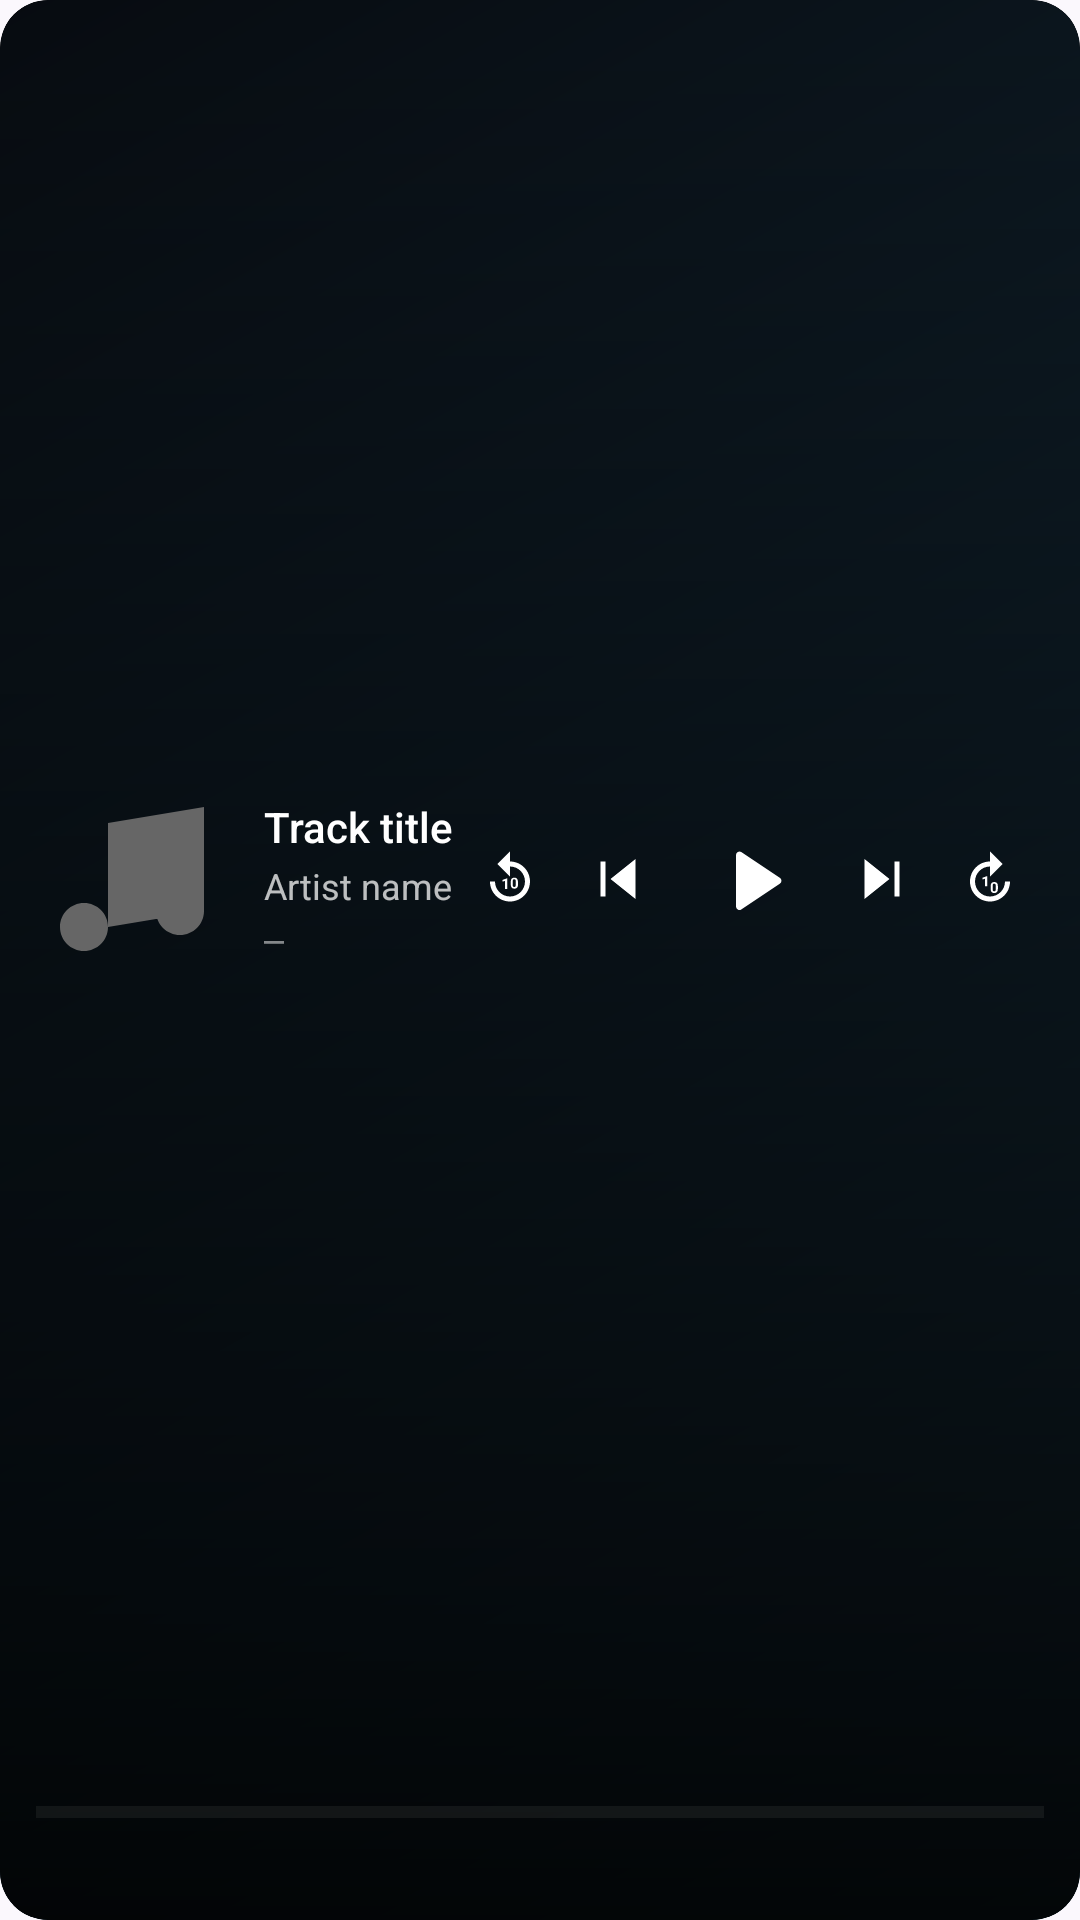

Icons on this 1080 × 1920 Android screen, each with the point to tap as point (x, y):
Album art: point (132, 879)
Forward 10 seconds: point (990, 876)
Next track: point (882, 879)
Play or pause: point (759, 880)
Previous track: point (618, 879)
Rewind 10 seconds: point (510, 876)
